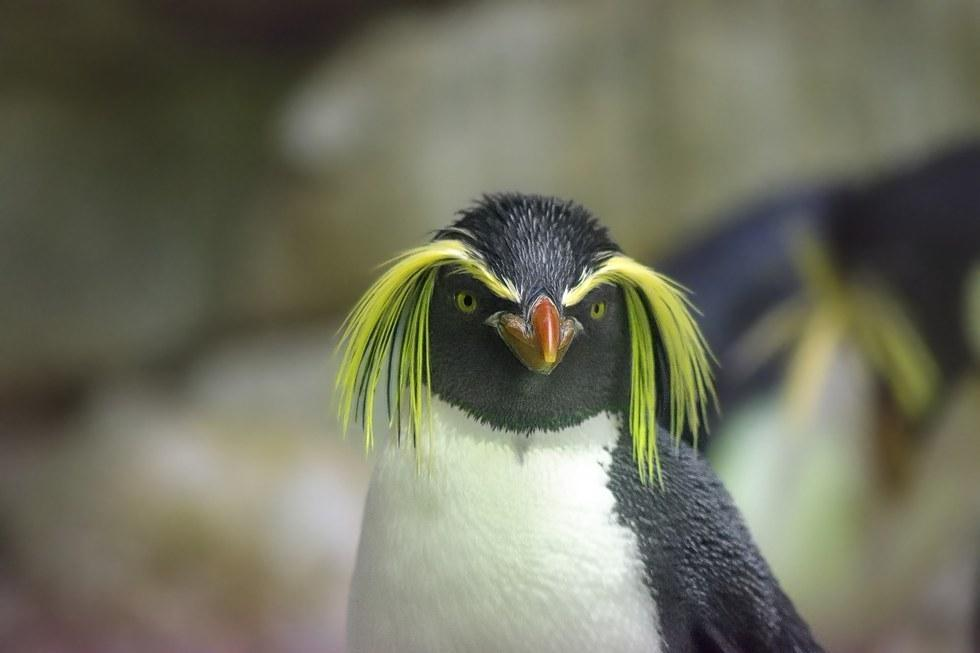Penguin: (337, 193, 817, 649)
